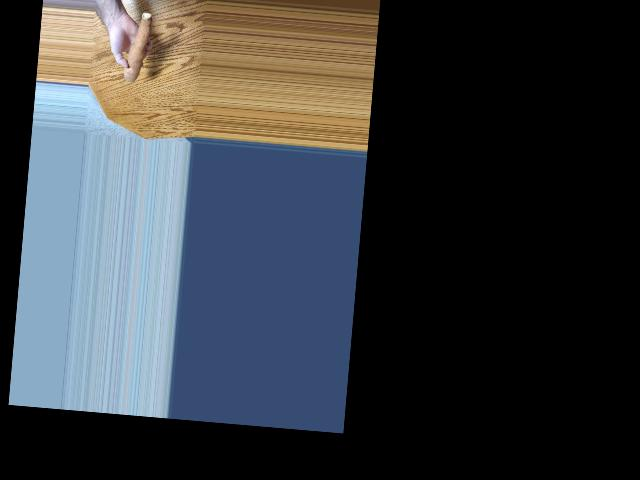sweet_potato: (125, 13, 152, 87)
